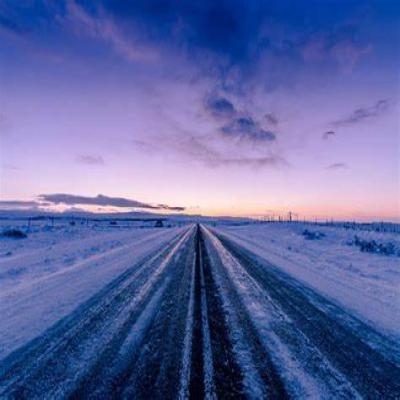iced-road: (0, 225, 400, 400)
